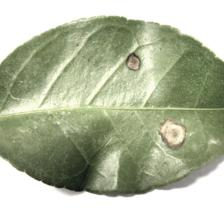canker: (115, 53, 191, 154)
